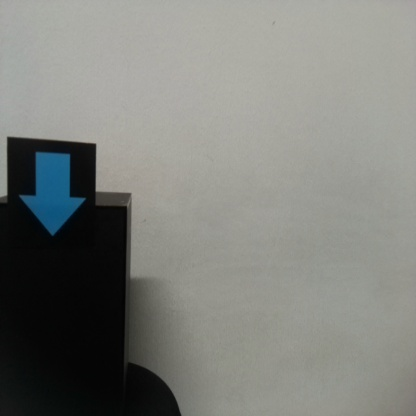id_2: (8, 138, 96, 261)
